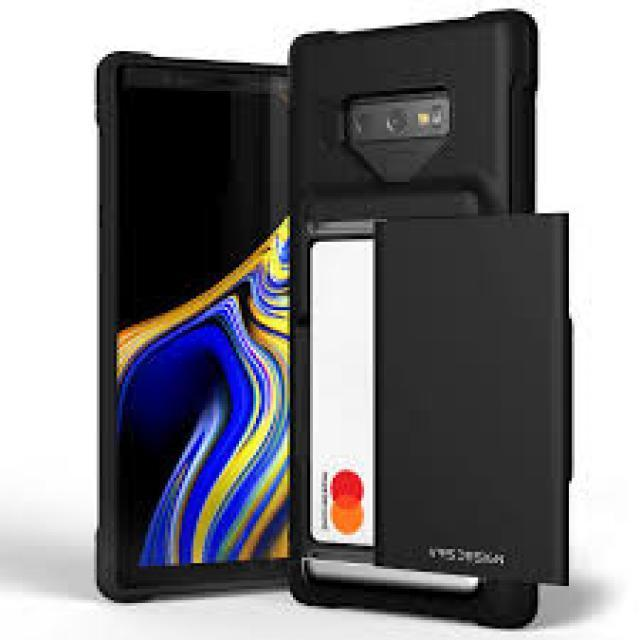phone: (290, 4, 542, 626), (96, 49, 290, 606)
